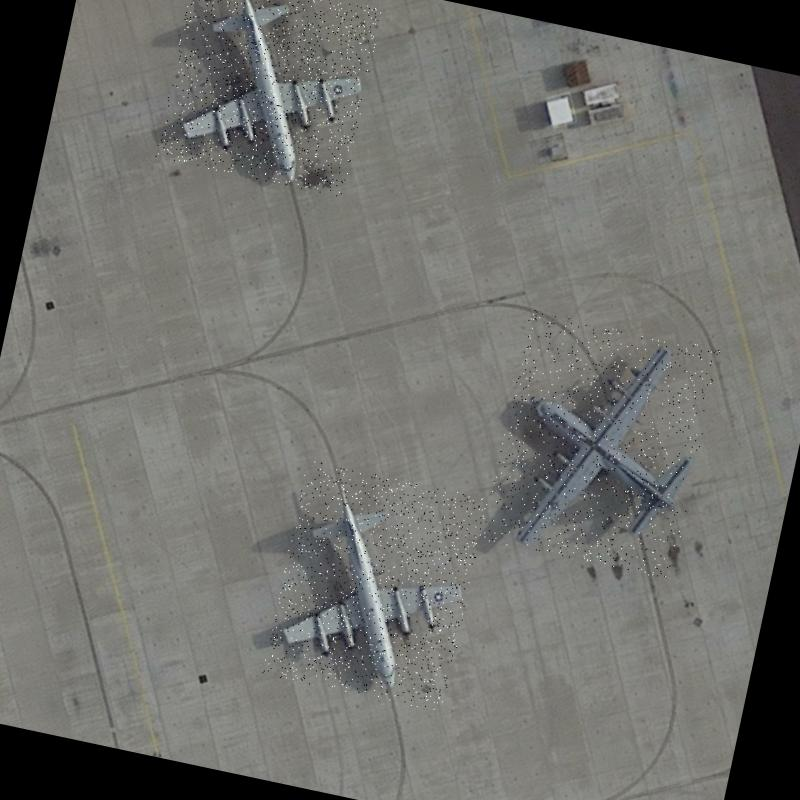A2: (481, 310, 720, 580)
A9: (262, 460, 488, 713), (155, 0, 383, 198)
